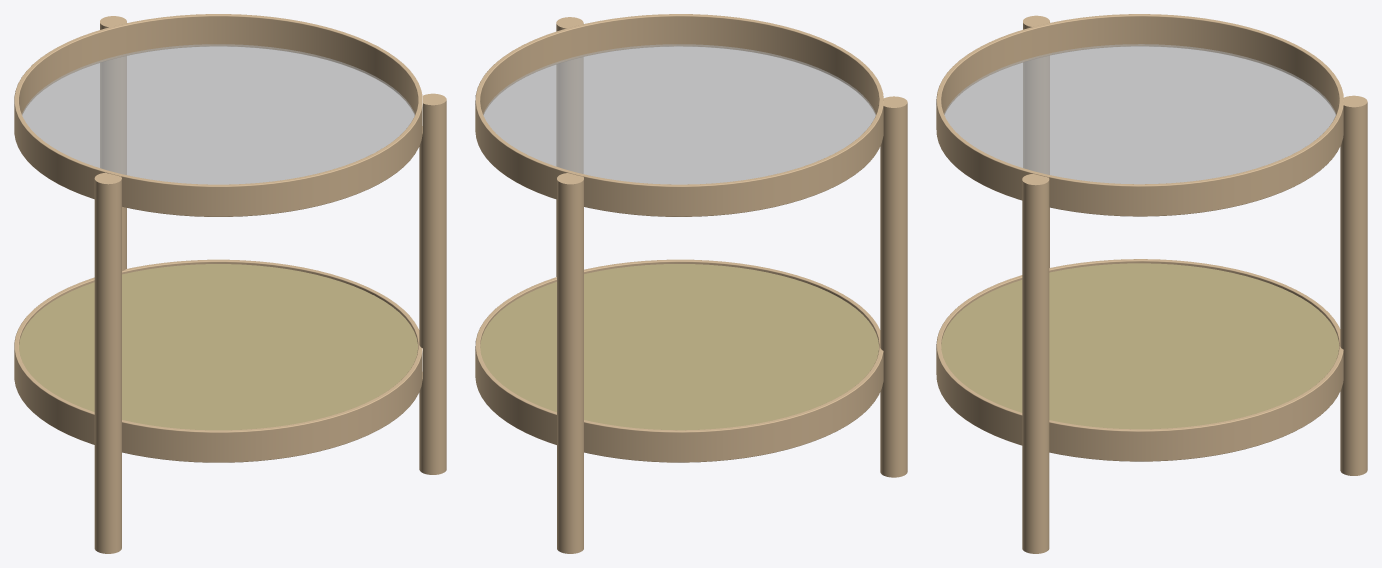
Rendered from mesa-auxiliar-carmenere.glb.
3 views of the same model, side by side, from view 1: azimuth 30°, elevation 25°; view 2: azimuth 150°, elevation 25°; view 3: azimuth 270°, elevation 25° (orthographic).
Size of the model in its own units: 0.6 by 0.6 by 0.6345.
